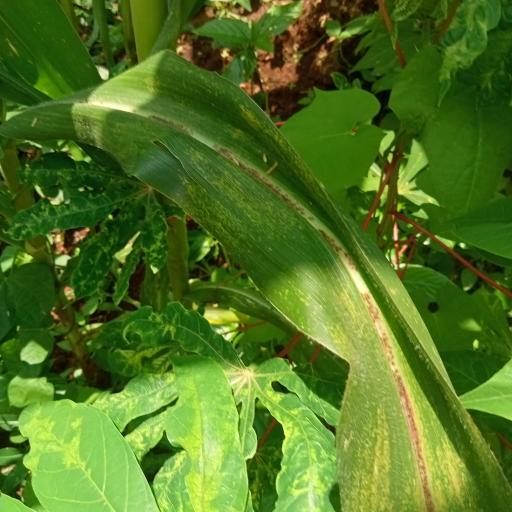Corn_Brown_Spots: (17, 64, 505, 512)
